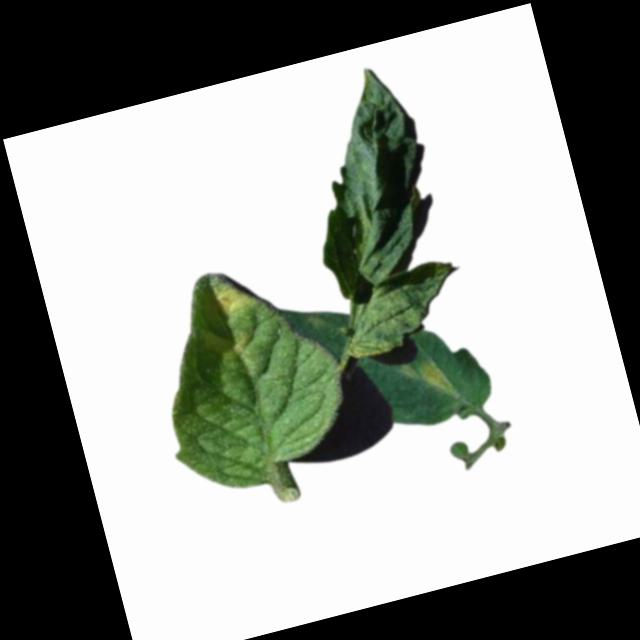Leaf_Mold: (213, 278, 259, 320), (417, 352, 456, 399)
